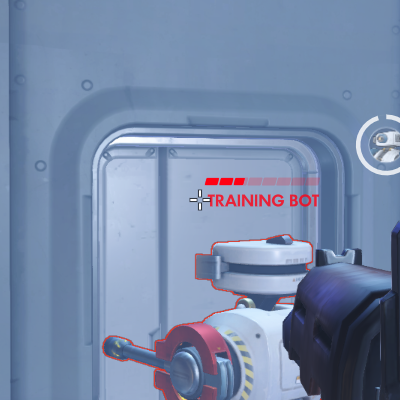hpbar: (204, 177, 320, 186)
